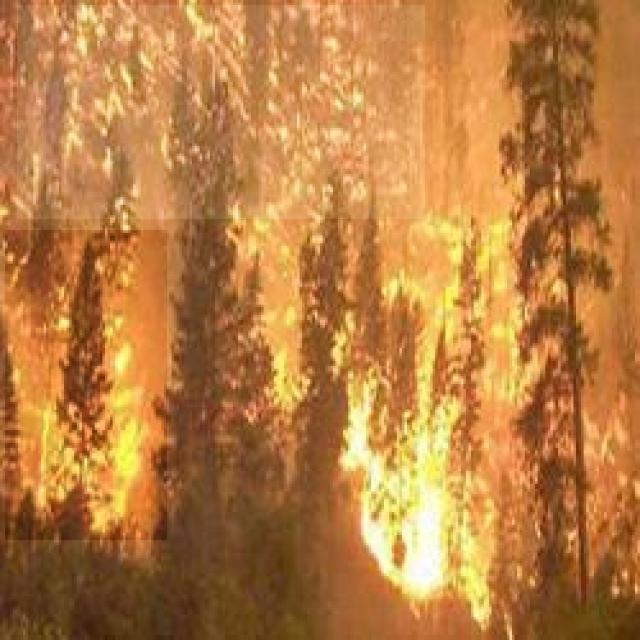Fire: (17, 5, 425, 219), (300, 255, 506, 608), (5, 230, 167, 540)
